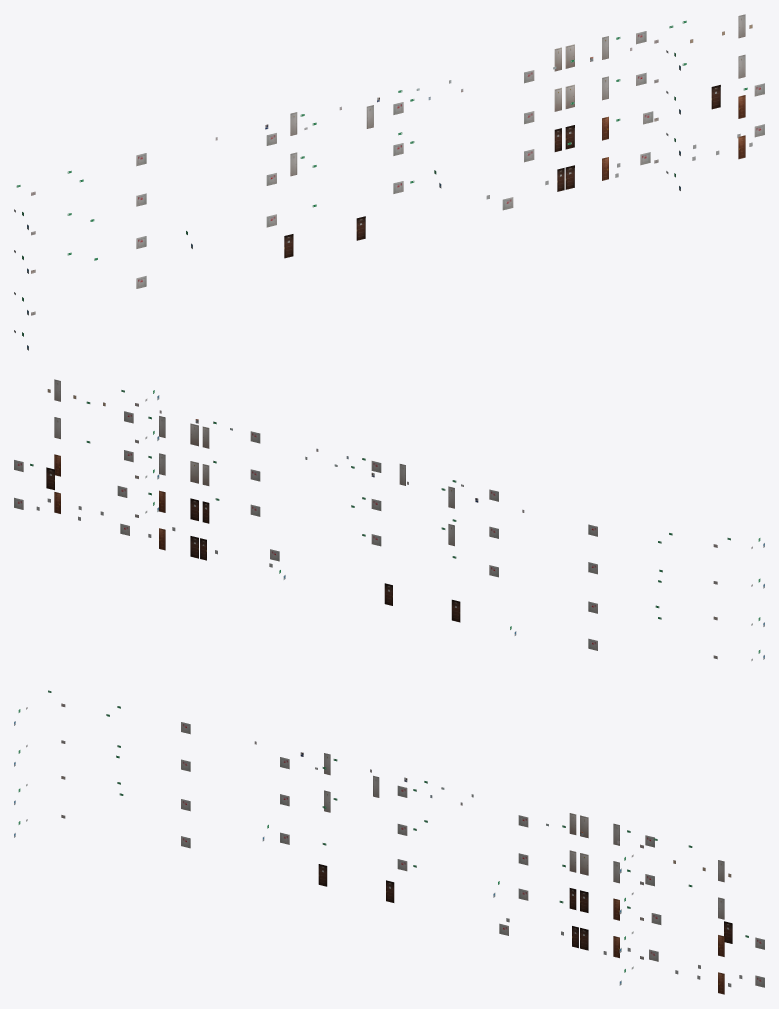
Rendered from DECAL.glb.
3 renders of one model, top to bottom at view 1: azimuth 30°, elevation 25°; view 2: azimuth 150°, elevation 25°; view 3: azimuth 330°, elevation 25°, orthographic. The views are drawn at different scales.
Parts seen in each view (by area): view 1: 4et.014; view 2: 4et.014; view 3: 4et.014.
Boxes of the visible parts, <box> form: 4et.014: <box>14,14,764,350</box>; 4et.014: <box>14,379,764,661</box>; 4et.014: <box>14,690,764,994</box>.
Size of the model in its own units: 74.18 by 13.76 by 9.78.
Materials: 5 (5 with a texture image).
